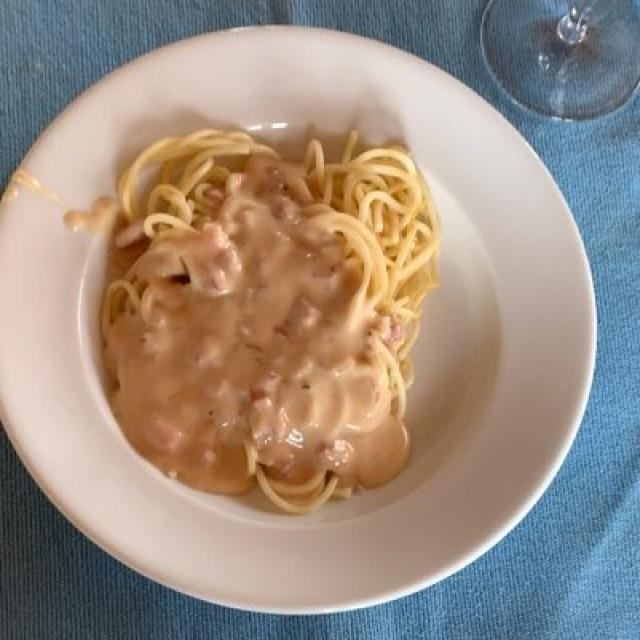pasta-spaghetti: (103, 126, 438, 506)
sauce-carbonara: (113, 163, 394, 487)
